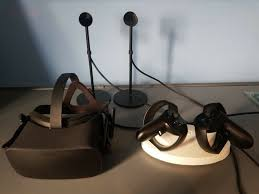oculus: (5, 105, 118, 182)
